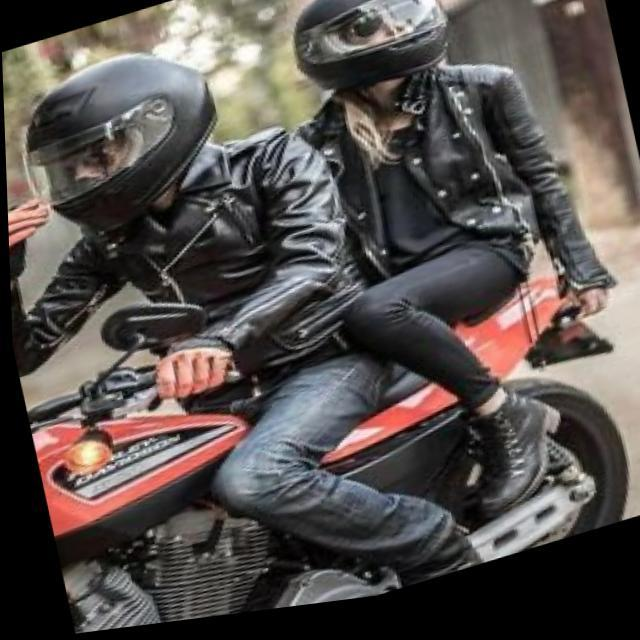Helmet: (12, 49, 228, 242), (283, 0, 461, 94)
